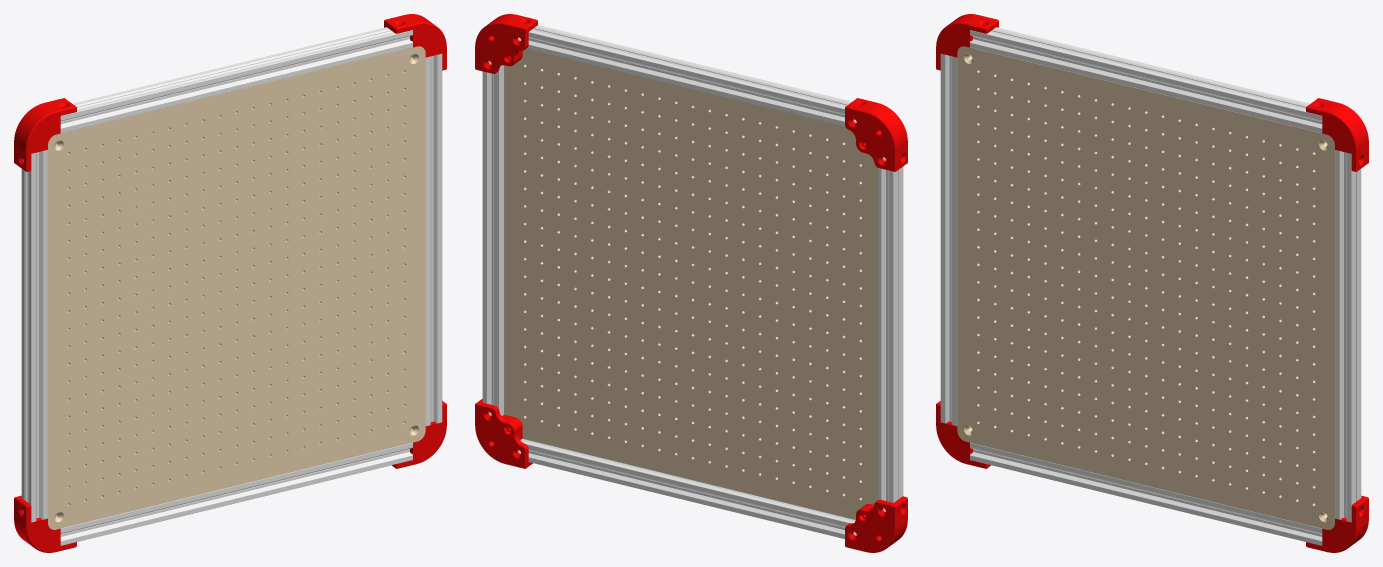
The model's file is Machine That Draws.glb.
3 renders of one model, left to right at view 1: azimuth 30°, elevation 25°; view 2: azimuth 150°, elevation 25°; view 3: azimuth 330°, elevation 25°, orthographic.
Parts seen in each view (by area): view 1: Plateau, V-Slot Linear Rail 20x20mm (×4), Part 2 (×4); view 2: Plateau, V-Slot Linear Rail 20x20mm (×4), Part 2 (×4); view 3: Plateau, V-Slot Linear Rail 20x20mm (×4), Part 2 (×4).
Part boxes in pixels (x1,y1,x2,y2): Plateau: (48,46,425,529); V-Slot Linear Rail 20x20mm (×4): (21,27,442,545); Part 2 (×4): (14,14,446,552); Plateau: (504,49,876,519); V-Slot Linear Rail 20x20mm (×4): (482,25,903,538); Part 2 (×4): (475,14,907,552); Plateau: (957,46,1334,529); V-Slot Linear Rail 20x20mm (×4): (940,27,1361,545); Part 2 (×4): (936,14,1368,552).
Size of the model in its own units: 0.502 by 0.502 by 0.026.
